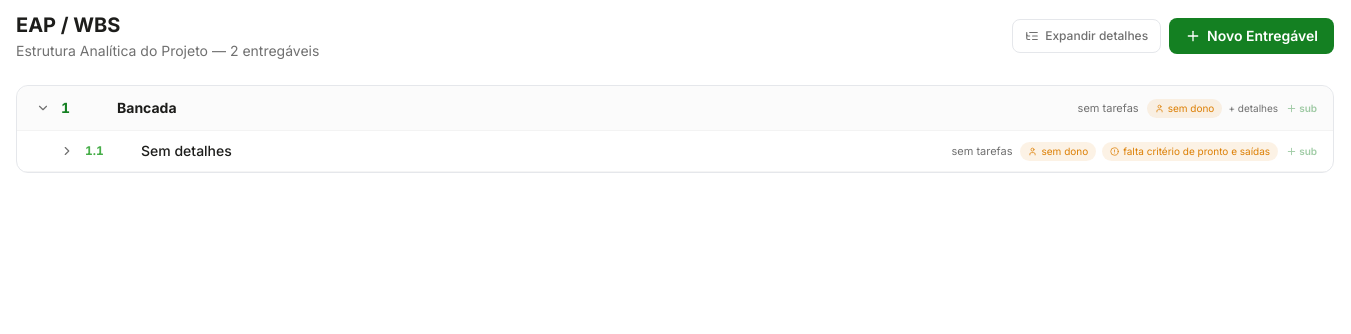
it: WbsClient — detalhes do pacote de trabalho › should say a field is empty instead of hiding it
Click the button "Sem detalhes" at {"x": 186, "y": 150}, box [141,141,943,161]
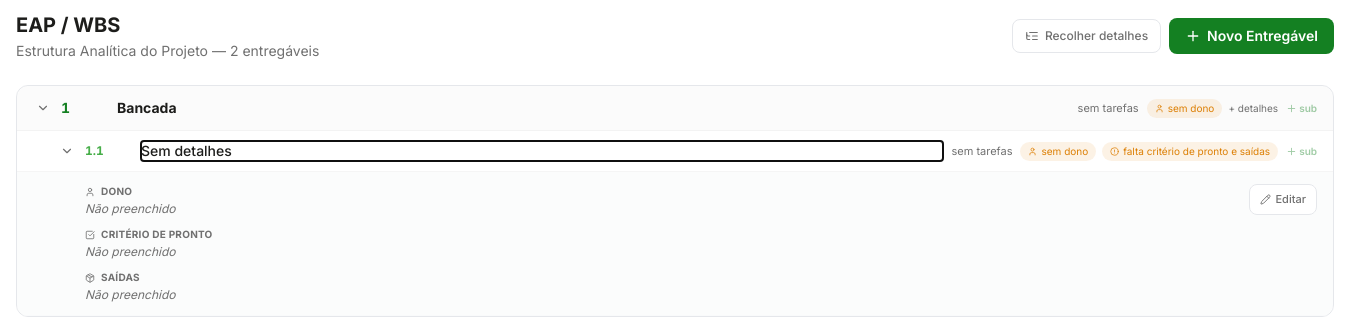
Now the text "Não preenchido" is shown 3 times, box [85,201,176,216]; [85,244,176,259]; [85,287,176,302]
